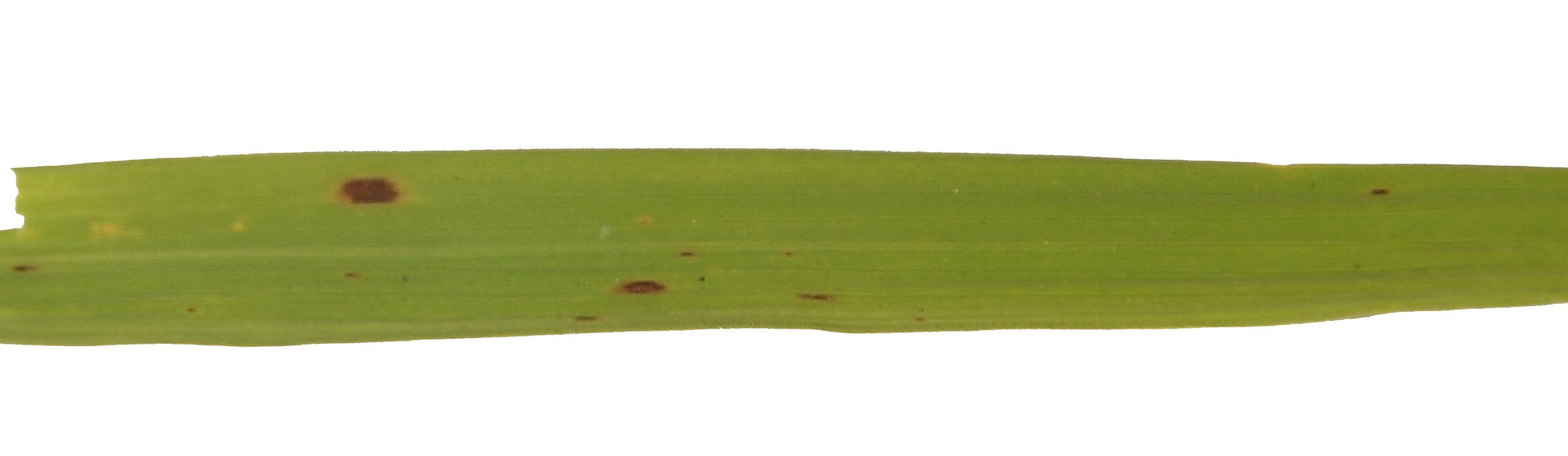Brown spot: (616, 263, 672, 307), (336, 171, 404, 205), (797, 273, 847, 313), (1354, 180, 1401, 217)
